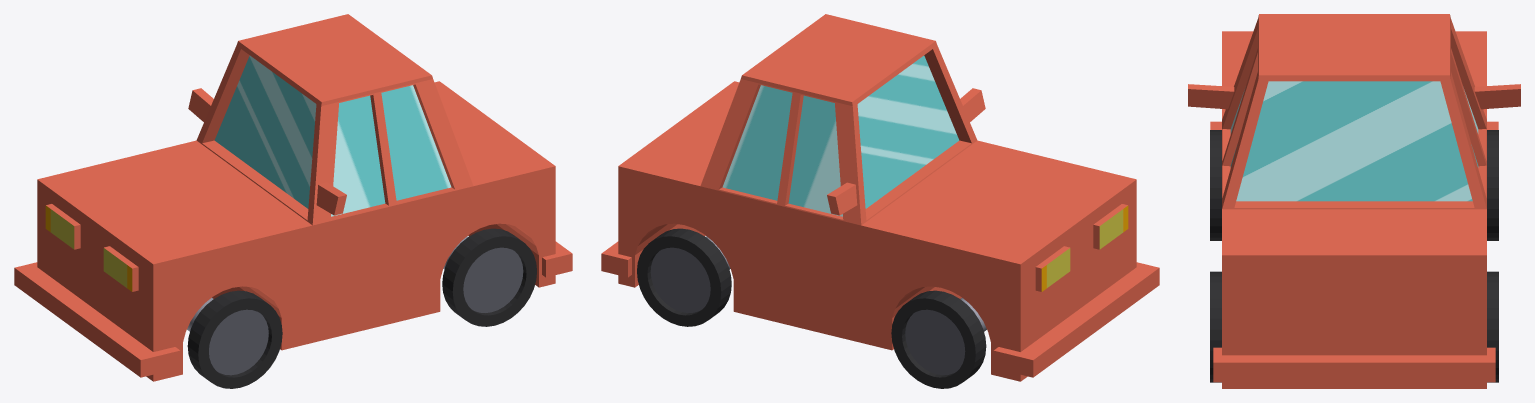
File: Car B.fbx
The picture shows the model from 3 angles, left to right: view 1: azimuth 30°, elevation 25°; view 2: azimuth 150°, elevation 25°; view 3: azimuth 270°, elevation 25°; orthographic projection. The views are drawn at different scales.
Visible parts, largest first — view 1: Body.001, WBL.001, WFL.001; view 2: Body.001, WBR.001, WFR.001; view 3: Body.001, WFL.001, WFR.001, WBL.001, WBR.001.
Boxes of the visible parts, x1,y1,x2,y2 form: Body.001: [14, 14, 572, 381]; WBL.001: [442, 228, 536, 326]; WFL.001: [187, 290, 282, 388]; Body.001: [601, 14, 1159, 381]; WBR.001: [637, 228, 731, 326]; WFR.001: [891, 290, 986, 388]; Body.001: [1188, 14, 1520, 388]; WFL.001: [1210, 130, 1221, 240]; WFR.001: [1487, 130, 1498, 240]; WBL.001: [1210, 271, 1221, 382]; WBR.001: [1487, 271, 1498, 382].
Size of the model in its own units: 431 by 233 by 251.
Materials: 2 (2 with a texture image).
